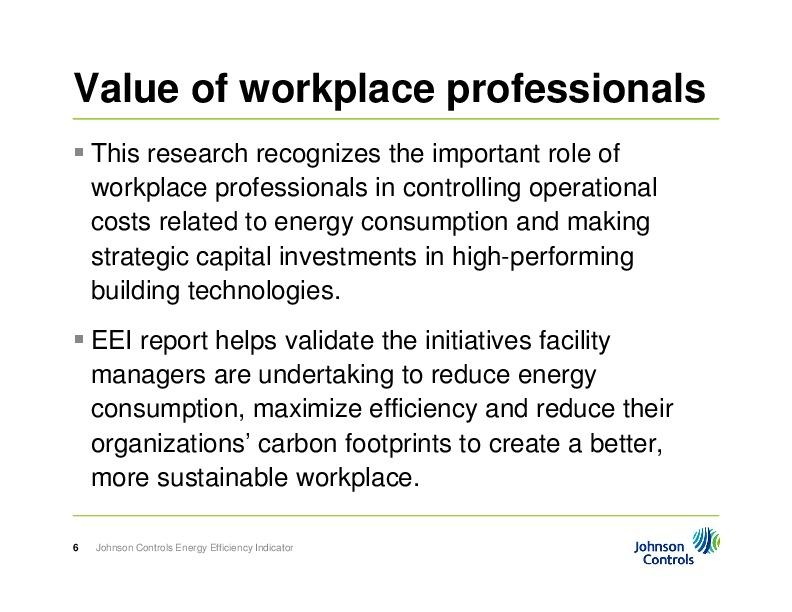paragraph: (65, 125, 706, 506)
subtitle: (90, 532, 309, 559)
title: (69, 56, 716, 112)
